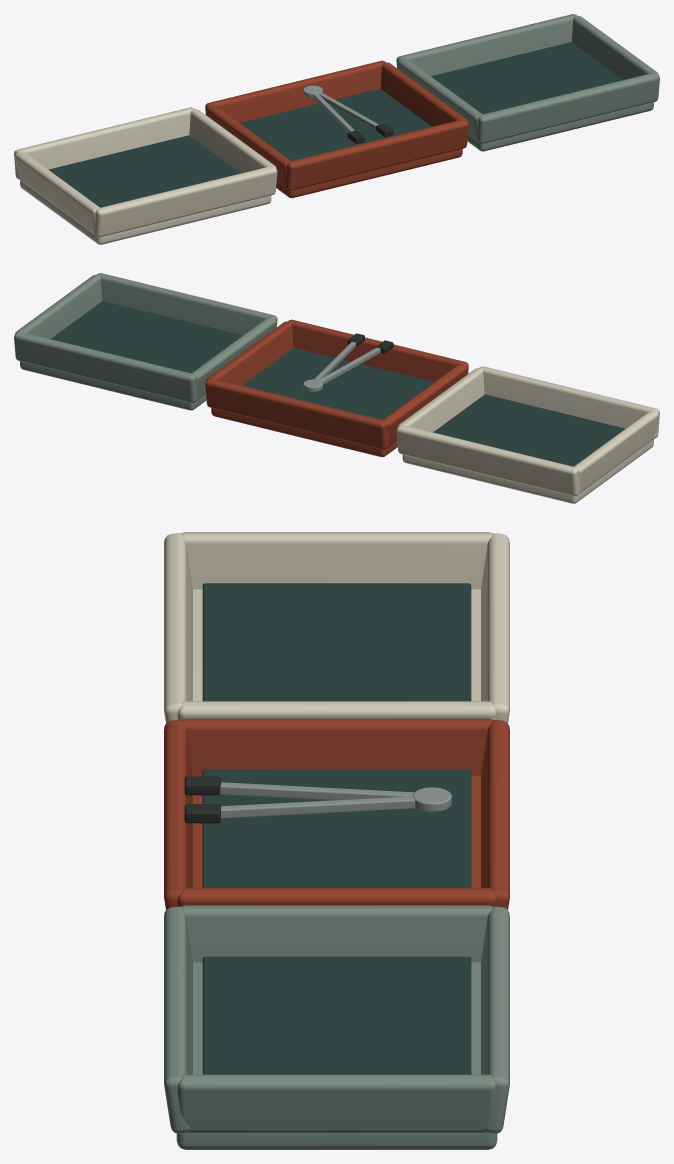
The model's file is CH09_ProcessingTrays.fbx.
3 views of the same model, one above another, from view 1: azimuth 30°, elevation 25°; view 2: azimuth 150°, elevation 25°; view 3: azimuth 270°, elevation 25° (orthographic). The views are drawn at different scales.
Parts seen in each view (by area): view 1: CH09_ProcessingTrays_CH09_Water, CH09_ProcessingTrays_CH09_Cream, CH09_ProcessingTrays_CH09_Green, CH09_ProcessingTrays_CH09_Red, CH09_ProcessingTrays_CH09_Steel, CH09_ProcessingTrays_CH09_Rubber; view 2: CH09_ProcessingTrays_CH09_Water, CH09_ProcessingTrays_CH09_Cream, CH09_ProcessingTrays_CH09_Green, CH09_ProcessingTrays_CH09_Red, CH09_ProcessingTrays_CH09_Steel; view 3: CH09_ProcessingTrays_CH09_Water, CH09_ProcessingTrays_CH09_Green, CH09_ProcessingTrays_CH09_Cream, CH09_ProcessingTrays_CH09_Red, CH09_ProcessingTrays_CH09_Steel, CH09_ProcessingTrays_CH09_Rubber.
Part boxes in pixels (x1,y1,x2,y2): CH09_ProcessingTrays_CH09_Water: (48,42,622,207); CH09_ProcessingTrays_CH09_Cream: (14,107,277,244); CH09_ProcessingTrays_CH09_Green: (396,14,659,151); CH09_ProcessingTrays_CH09_Red: (205,60,468,198); CH09_ProcessingTrays_CH09_Steel: (303,85,378,132); CH09_ProcessingTrays_CH09_Rubber: (347,123,393,143); CH09_ProcessingTrays_CH09_Water: (51,301,625,466); CH09_ProcessingTrays_CH09_Cream: (396,366,659,503); CH09_ProcessingTrays_CH09_Green: (14,273,277,410); CH09_ProcessingTrays_CH09_Red: (205,319,468,457); CH09_ProcessingTrays_CH09_Steel: (303,341,380,391); CH09_ProcessingTrays_CH09_Water: (202,583,471,1074); CH09_ProcessingTrays_CH09_Green: (164,905,509,1149); CH09_ProcessingTrays_CH09_Cream: (164,532,509,723); CH09_ProcessingTrays_CH09_Red: (164,718,509,909); CH09_ProcessingTrays_CH09_Steel: (220,782,451,818); CH09_ProcessingTrays_CH09_Rubber: (184,776,220,823).
Bounding box in the file's own units: 151 × 11.1 × 39.93.
